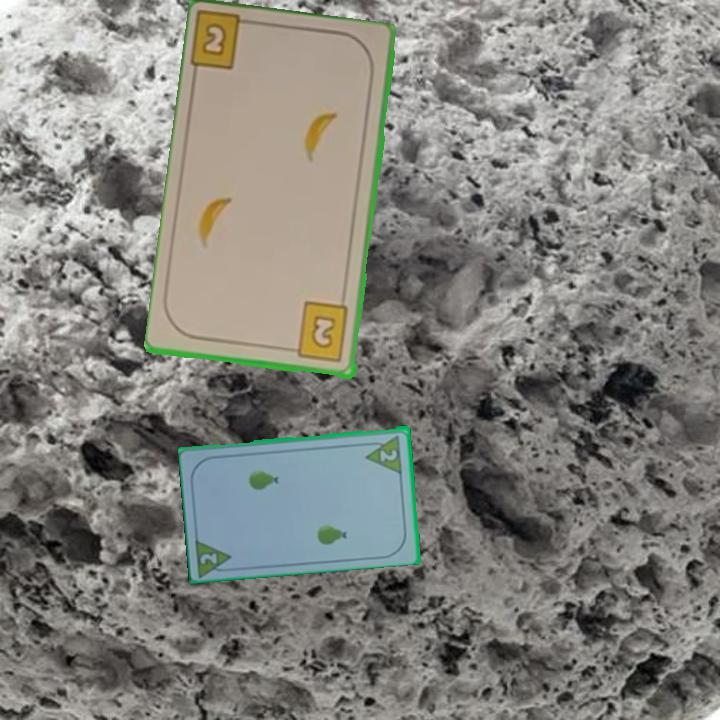2b: (189, 11, 260, 74), (285, 299, 352, 365)
2p: (193, 533, 237, 578), (362, 431, 405, 475)
